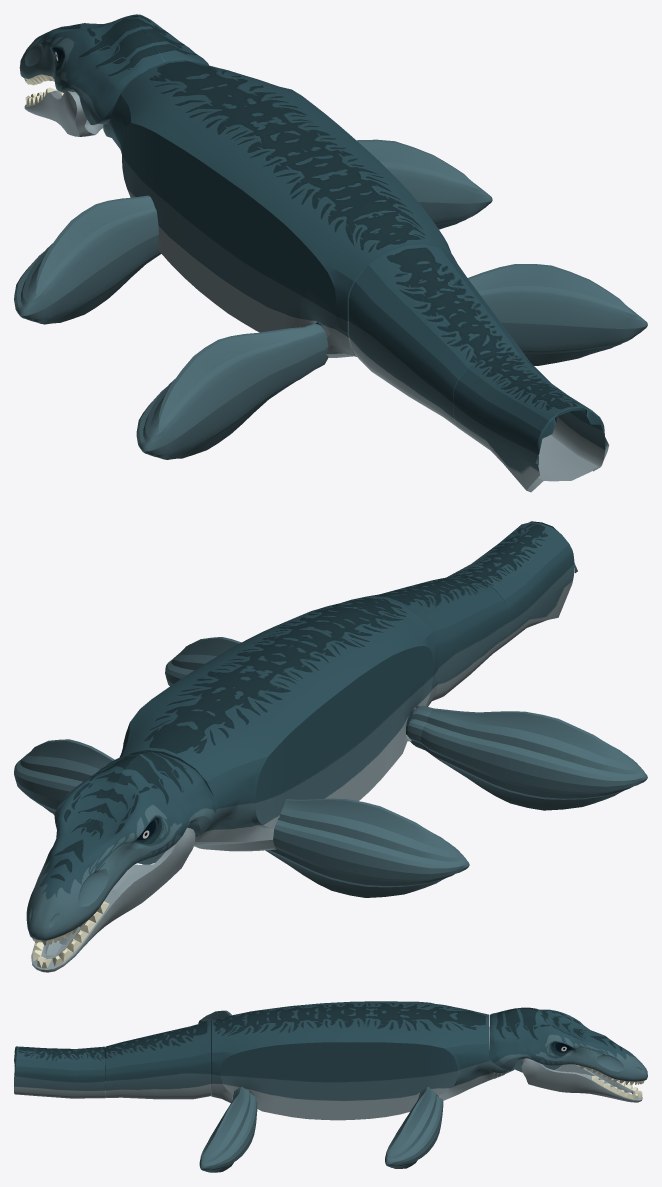
File: Mosa.obj
3 renders of one model, top to bottom at view 1: azimuth 30°, elevation 25°; view 2: azimuth 150°, elevation 25°; view 3: azimuth 270°, elevation 25°, orthographic. The views are drawn at different scales.
Parts seen in each view (by area): view 1: Mosa:polySurface13; view 2: Mosa:polySurface13; view 3: Mosa:polySurface13.
Part boxes in pixels (bbox=[...]): Mosa:polySurface13: bbox=[14, 14, 647, 492]; Mosa:polySurface13: bbox=[14, 521, 647, 972]; Mosa:polySurface13: bbox=[14, 1001, 647, 1172].
Bounding box in the file's own units: 11.34 × 4.19 × 20.92.
8 materials, 8 textured.
